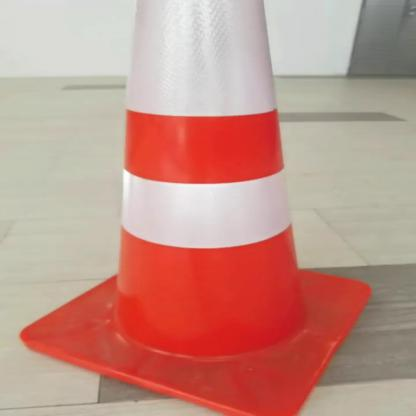cone: (8, 1, 384, 416)
